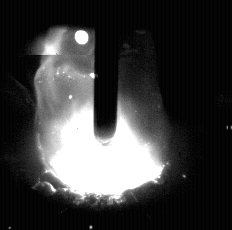arame: (94, 0, 118, 140)
poca: (37, 0, 169, 230)
